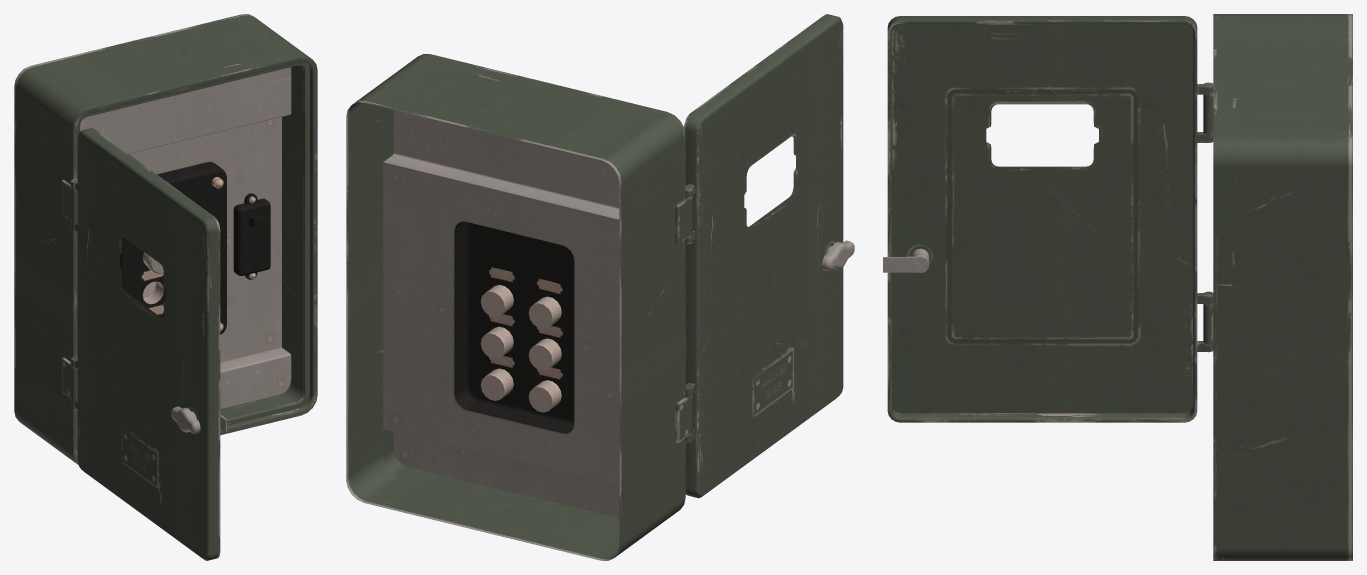
The model's file is fusebox_vintage.glb.
3 renders of one model, left to right at view 1: azimuth 30°, elevation 25°; view 2: azimuth 150°, elevation 25°; view 3: azimuth 270°, elevation 25°, orthographic. The views are drawn at different scales.
Visible parts, largest first — view 1: FuseBox; view 2: FuseBox; view 3: FuseBox.
Boxes of the visible parts, bbox=[...] form: FuseBox: bbox=[14, 14, 317, 560]; FuseBox: bbox=[346, 14, 854, 560]; FuseBox: bbox=[883, 14, 1352, 560].
Size of the model in its own units: 80.02 by 105 by 106.
Materials: 1 (1 with a texture image).
